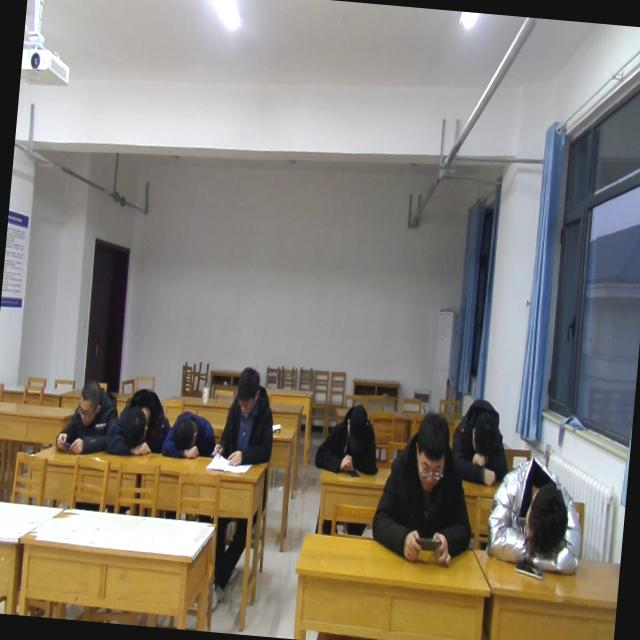bow: (481, 449, 591, 576), (448, 391, 514, 488), (106, 379, 175, 462), (52, 374, 120, 458), (314, 398, 382, 478), (159, 406, 217, 462)
down: (408, 410, 452, 492), (231, 358, 263, 422), (339, 400, 375, 446), (73, 374, 104, 424)
sit: (368, 406, 484, 566), (210, 362, 278, 469)
